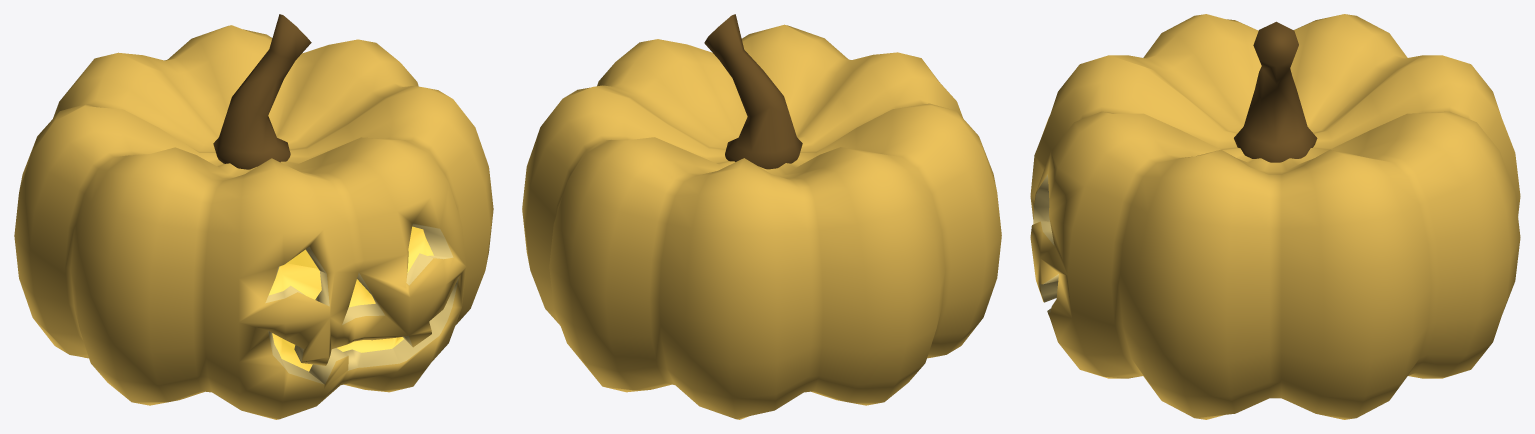
The model's file is JackOLanternHappy.glb.
The picture shows the model from 3 angles, left to right: view 1: azimuth 30°, elevation 25°; view 2: azimuth 150°, elevation 25°; view 3: azimuth 270°, elevation 25°; orthographic projection. The views are drawn at different scales.
Parts seen in each view (by area): view 1: BasePumpkin.003; view 2: BasePumpkin.003; view 3: BasePumpkin.003.
Part boxes in pixels (x1,y1,x2,y2): BasePumpkin.003: (14,14,493,419); BasePumpkin.003: (522,14,1001,419); BasePumpkin.003: (1030,14,1520,419).
Size of the model in its own units: 1.92 by 1.49 by 1.92.
Materials: 2 (1 with a texture image).
